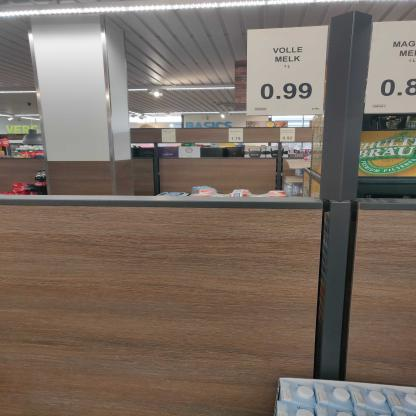prtg: (247, 26, 331, 117), (365, 20, 416, 116), (281, 129, 297, 143), (229, 129, 244, 143)
